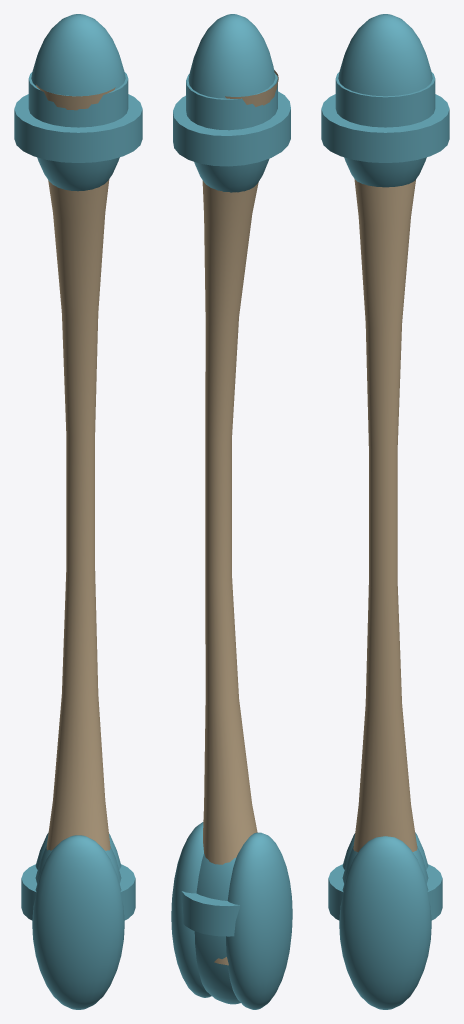
Rendered from left_radius.glb.
3 views of the same model, side by side, from view 1: azimuth 90°, elevation 25°; view 2: azimuth 150°, elevation 25°; view 3: azimuth 270°, elevation 25° (orthographic).
Visible parts, largest first — view 1: left_radius:diaphysis, left_radius:condyle--1, left_radius:proximal-envelope, left_radius:proximal-epiphyseal-plate, left_radius:radial-head, left_radius:distal-epiphyseal-plate, left_radius:distal-envelope; view 2: left_radius:diaphysis, left_radius:condyle--1, left_radius:proximal-envelope, left_radius:proximal-epiphyseal-plate, left_radius:condyle-1, left_radius:distal-envelope, left_radius:radial-head, left_radius:distal-epiphyseal-plate; view 3: left_radius:diaphysis, left_radius:condyle-1, left_radius:proximal-envelope, left_radius:proximal-epiphyseal-plate, left_radius:radial-head, left_radius:distal-epiphyseal-plate, left_radius:distal-envelope.
Boxes of the visible parts, box(x1,y1,x2,y2) form: left_radius:diaphysis: box(36, 84, 115, 850); left_radius:condyle--1: box(32, 835, 124, 1009); left_radius:proximal-envelope: box(31, 14, 125, 191); left_radius:proximal-epiphyseal-plate: box(14, 94, 142, 162); left_radius:radial-head: box(28, 72, 128, 127); left_radius:distal-epiphyseal-plate: box(21, 864, 135, 920); left_radius:distal-envelope: box(35, 846, 121, 883); left_radius:diaphysis: box(202, 70, 278, 965); left_radius:condyle--1: box(226, 832, 292, 1009); left_radius:proximal-envelope: box(188, 14, 275, 192); left_radius:proximal-epiphyseal-plate: box(173, 91, 290, 166); left_radius:condyle-1: box(171, 822, 211, 997); left_radius:distal-envelope: box(194, 853, 240, 1004); left_radius:radial-head: box(186, 73, 277, 130); left_radius:distal-epiphyseal-plate: box(181, 891, 240, 936); left_radius:diaphysis: box(353, 179, 417, 852); left_radius:condyle-1: box(339, 836, 431, 1009); left_radius:proximal-envelope: box(338, 14, 432, 187); left_radius:proximal-epiphyseal-plate: box(321, 94, 449, 162); left_radius:radial-head: box(335, 72, 435, 127); left_radius:distal-epiphyseal-plate: box(328, 864, 442, 920); left_radius:distal-envelope: box(342, 845, 428, 883).
Bounding box in the file's own units: 0.045 × 0.405 × 0.048.
